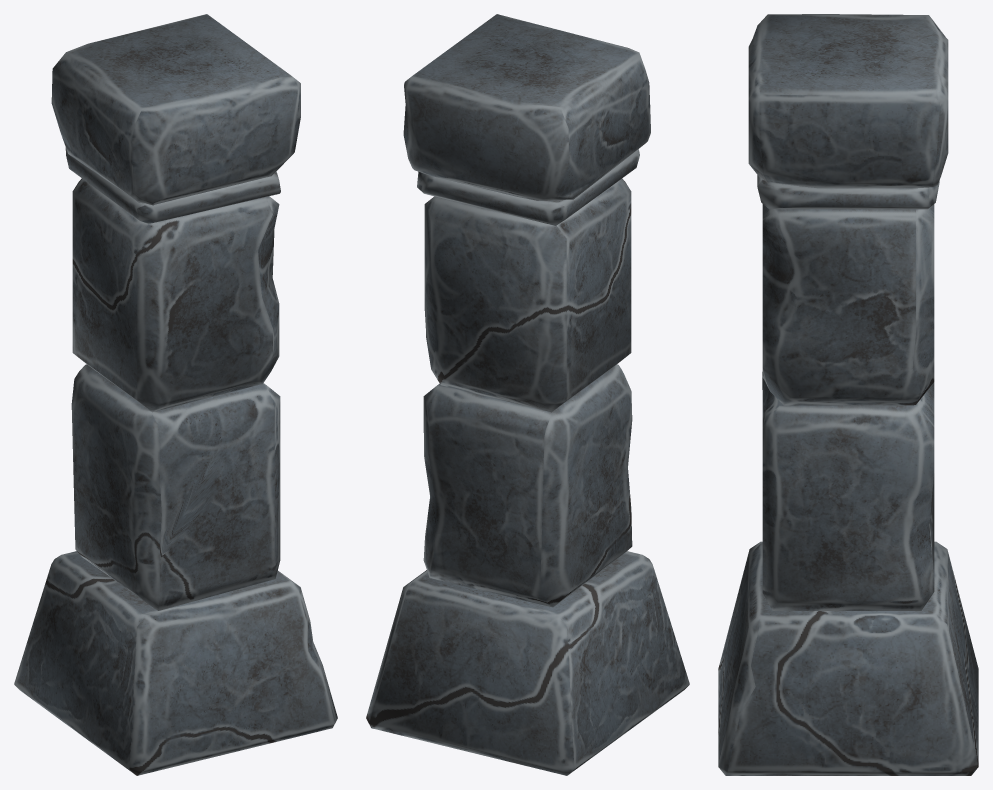
Rendered from Pillar.FBX.
The picture shows the model from 3 angles, left to right: view 1: azimuth 30°, elevation 25°; view 2: azimuth 150°, elevation 25°; view 3: azimuth 270°, elevation 25°; orthographic projection. The views are drawn at different scales.
Parts seen in each view (by area): view 1: Pillar_02, Pillar_01; view 2: Pillar_02, Pillar_01; view 3: Pillar_02, Pillar_01.
Boxes of the visible parts, x1,y1,x2,y2 form: Pillar_02: (51,14,300,537); Pillar_01: (14,477,337,775); Pillar_02: (403,14,650,534); Pillar_01: (366,489,689,775); Pillar_02: (748,14,948,555); Pillar_01: (718,473,978,775).
Size of the model in its own units: 189 by 560 by 196.
